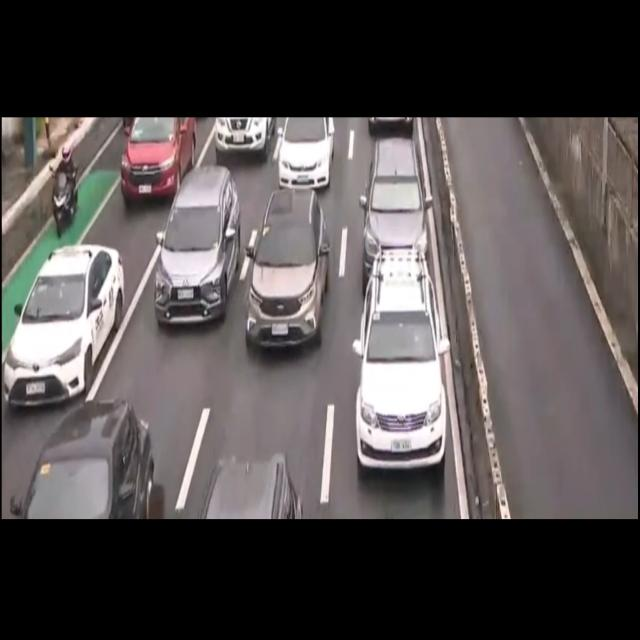Motorcycle: (42, 141, 82, 246)
SUV: (358, 247, 452, 474), (11, 394, 157, 520), (242, 184, 330, 357), (158, 167, 238, 326), (359, 141, 437, 283)
Sedan: (8, 247, 121, 403), (116, 117, 195, 207), (276, 110, 332, 188)
